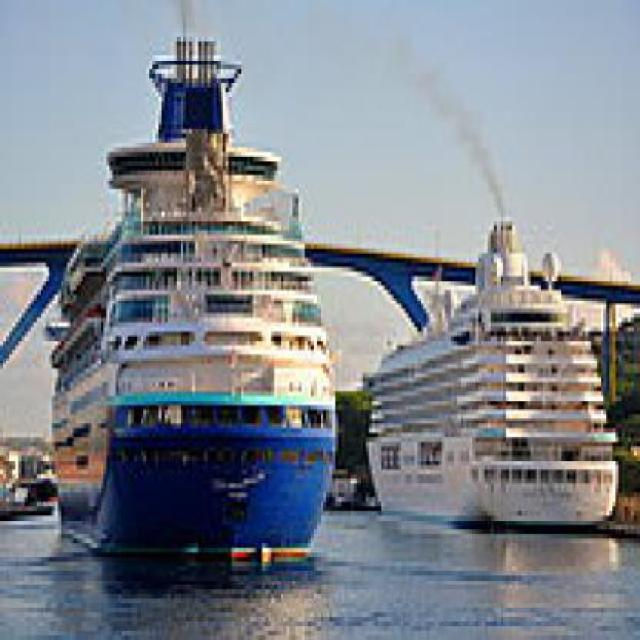cruise: (44, 11, 346, 577), (355, 194, 635, 545)
